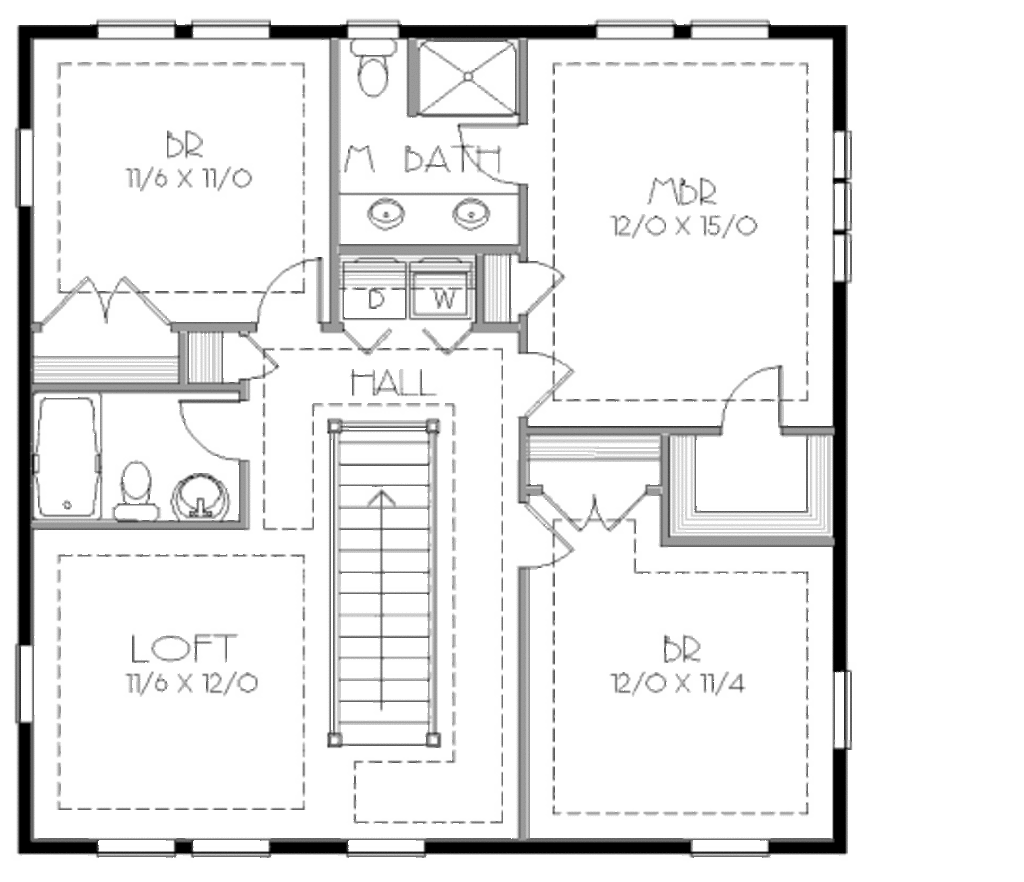door: (29, 276, 180, 335), (700, 350, 791, 438), (165, 392, 257, 462), (249, 252, 323, 331), (539, 482, 649, 535), (519, 354, 584, 422), (516, 506, 577, 571), (516, 258, 565, 315)
large_sink: (349, 19, 397, 102), (108, 456, 163, 524)
small_sink: (335, 192, 517, 250), (159, 475, 235, 519)
stairs: (315, 408, 451, 751)
tub: (29, 392, 104, 522)
window: (8, 120, 41, 214), (592, 12, 677, 44), (343, 827, 423, 858), (688, 834, 773, 860), (92, 19, 184, 43), (191, 18, 276, 43), (91, 836, 179, 860), (15, 646, 39, 731), (692, 16, 768, 42), (829, 670, 853, 750), (192, 839, 273, 856)
